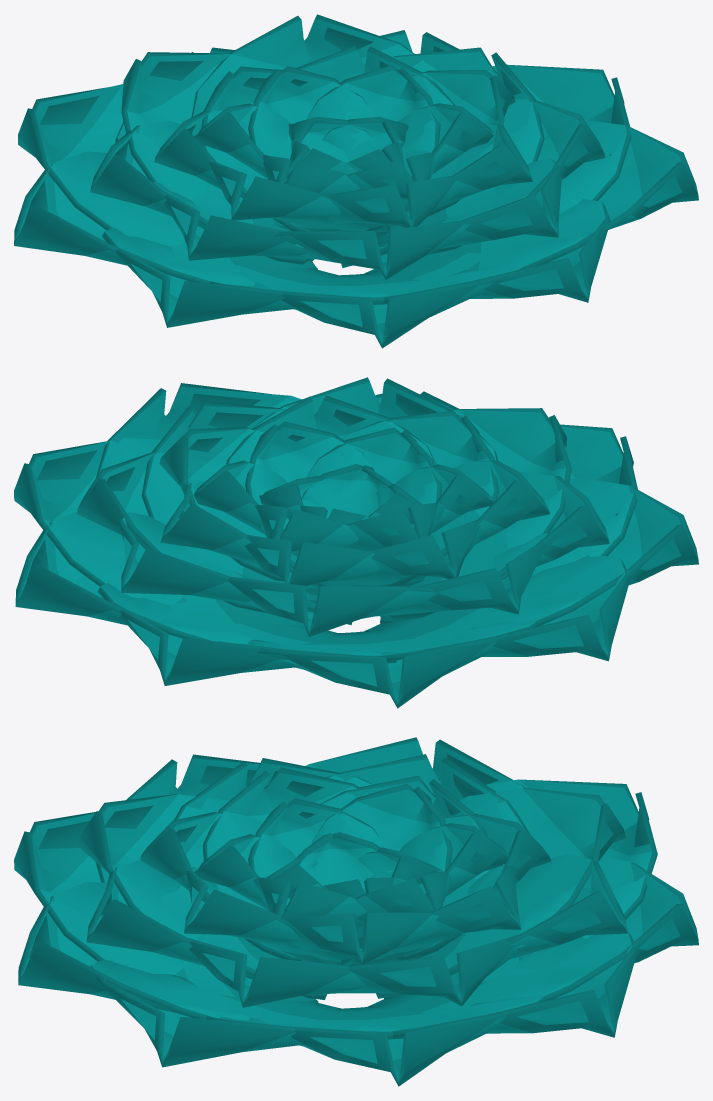
The model's file is garden-rose-bloom-head-3-069494.glb.
3 views of the same model, one above another, from view 1: azimuth 30°, elevation 25°; view 2: azimuth 150°, elevation 25°; view 3: azimuth 270°, elevation 25° (orthographic). The views are drawn at different scales.
Visible parts, largest first — view 1: rose-bloom-head-3-069494; view 2: rose-bloom-head-3-069494; view 3: rose-bloom-head-3-069494.
Part boxes in pixels (bbox=[...]): rose-bloom-head-3-069494: bbox=[14, 14, 698, 348]; rose-bloom-head-3-069494: bbox=[14, 377, 698, 708]; rose-bloom-head-3-069494: bbox=[14, 737, 698, 1086].
Bounding box in the file's own units: 0.1594 × 0.0402 × 0.1493.
